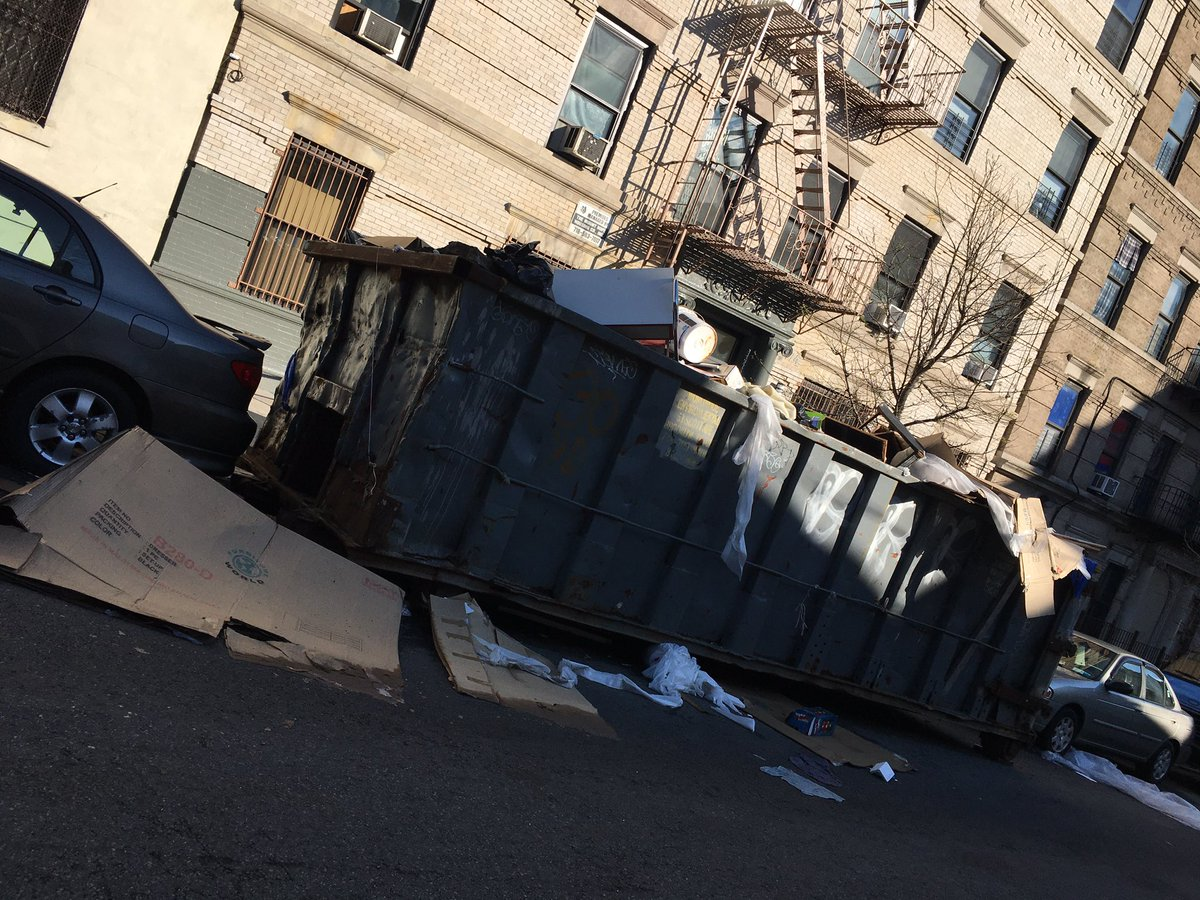building: (191, 1, 1200, 565)
car: (1, 189, 298, 500), (1028, 607, 1183, 791)
dumpster: (305, 222, 1098, 763)
trash: (1, 456, 979, 761)
